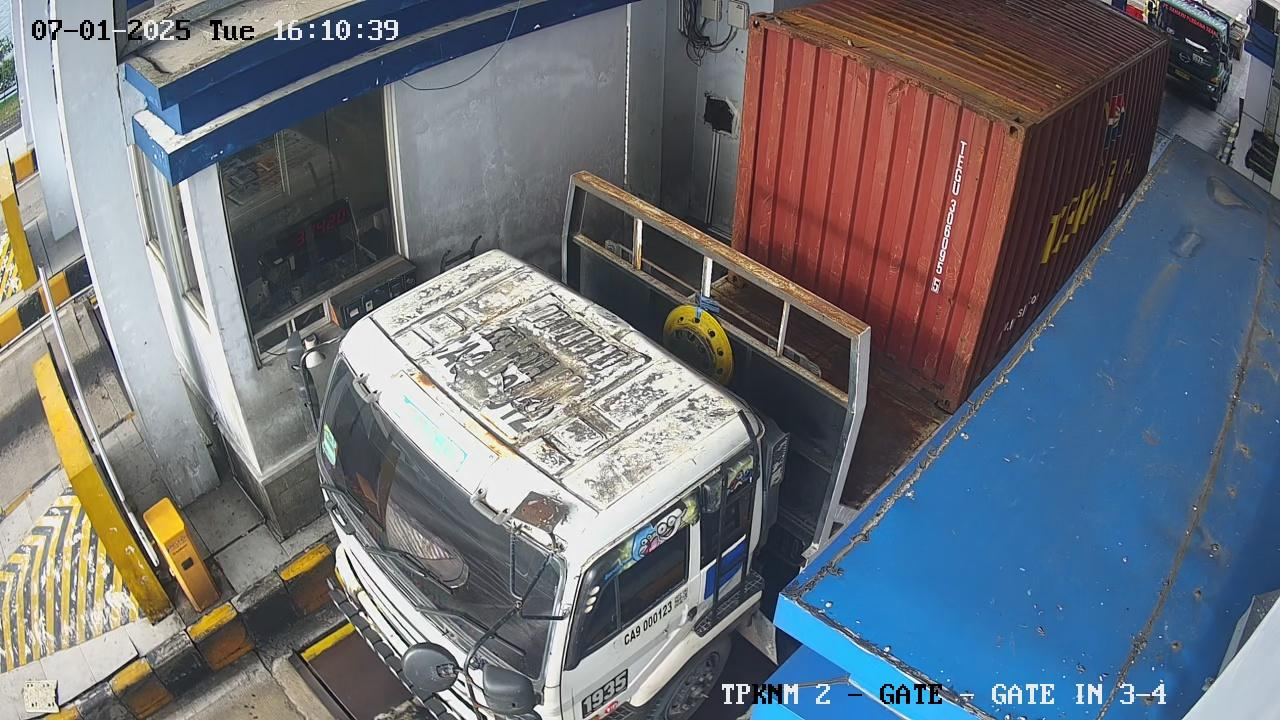Container_ID_Vertikal: (927, 140, 967, 294)
truck_id: (618, 583, 685, 645)
